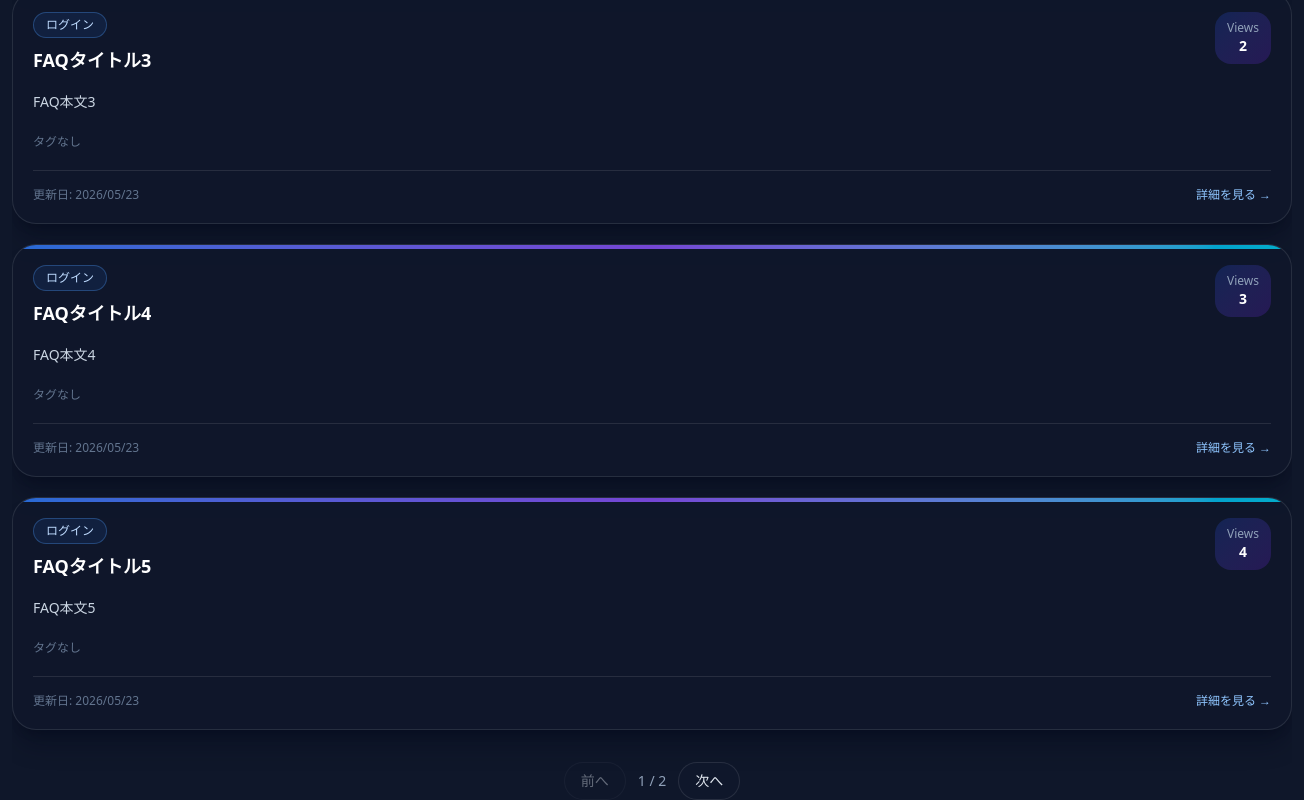
Test: HomePage › 検索するとページ番号が1ページ目に戻る
(page scrolled)
Click the button "次へ" at x=709, y=781, box [678, 762, 740, 799]
(page scrolled)
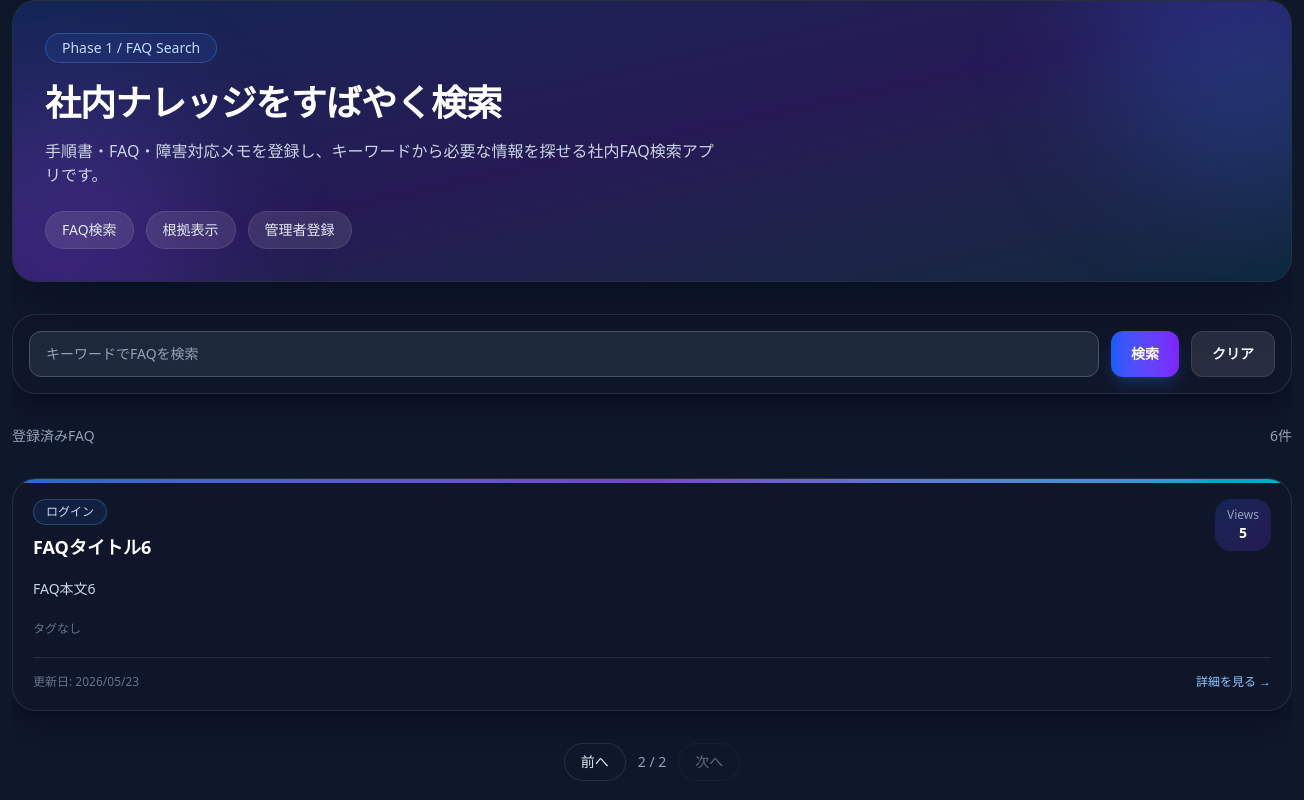
Expected: the text "2 / 2" is shown, [638, 752, 666, 772]
Type "FAQタイトル1" into the field with placeholder "キーワードでFAQを検索" at x=564, y=354, box [29, 331, 1099, 377]
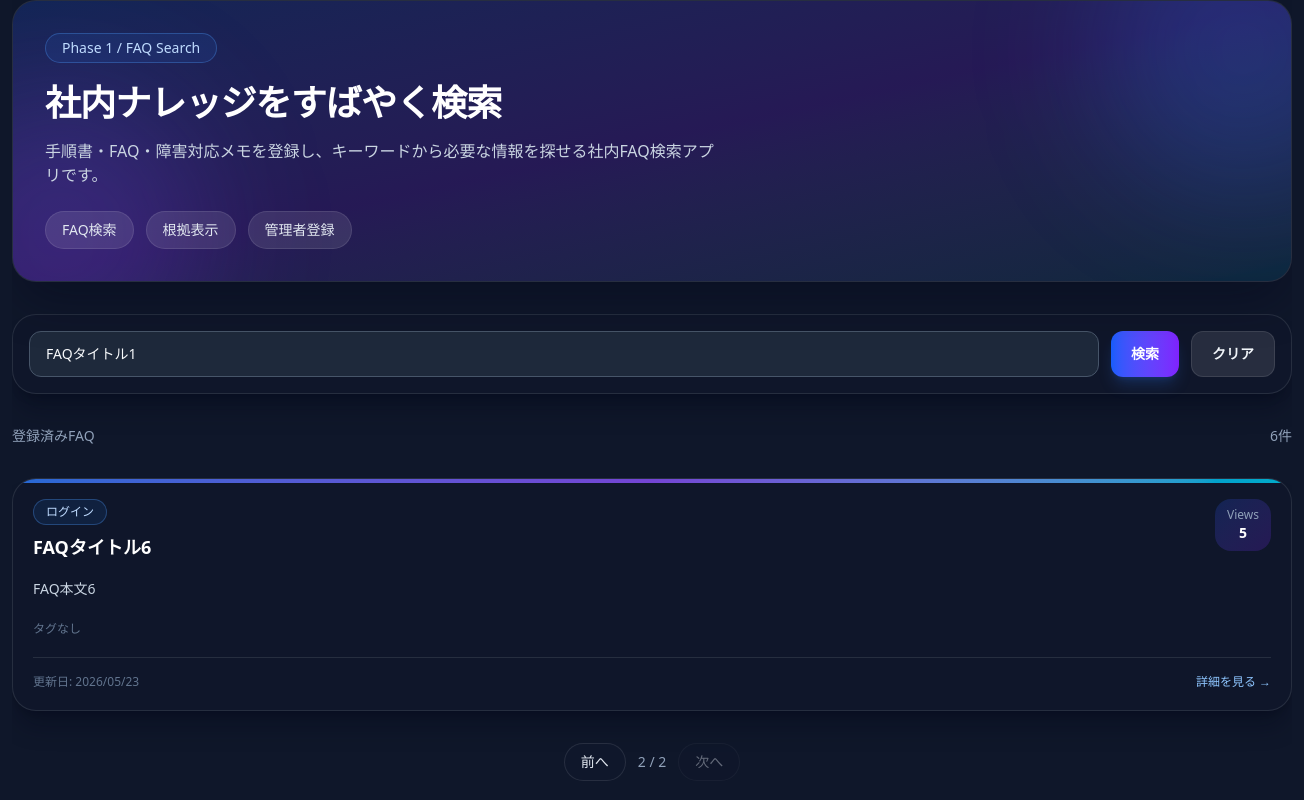
Click the button "検索" at x=1145, y=354, box [1111, 331, 1179, 377]
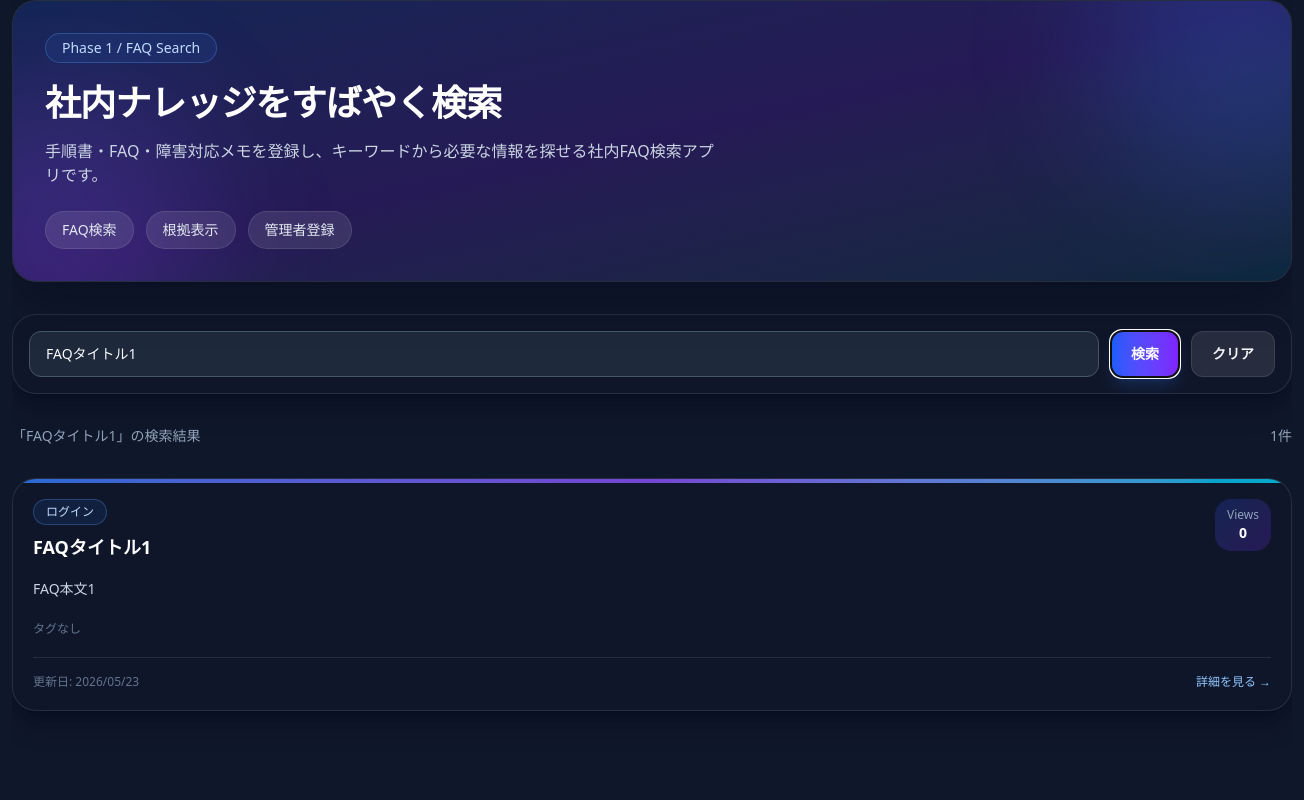
Expected: the text "2 / 2" is gone
Expected: the heading "FAQタイトル1" is shown, [33, 533, 151, 561]
